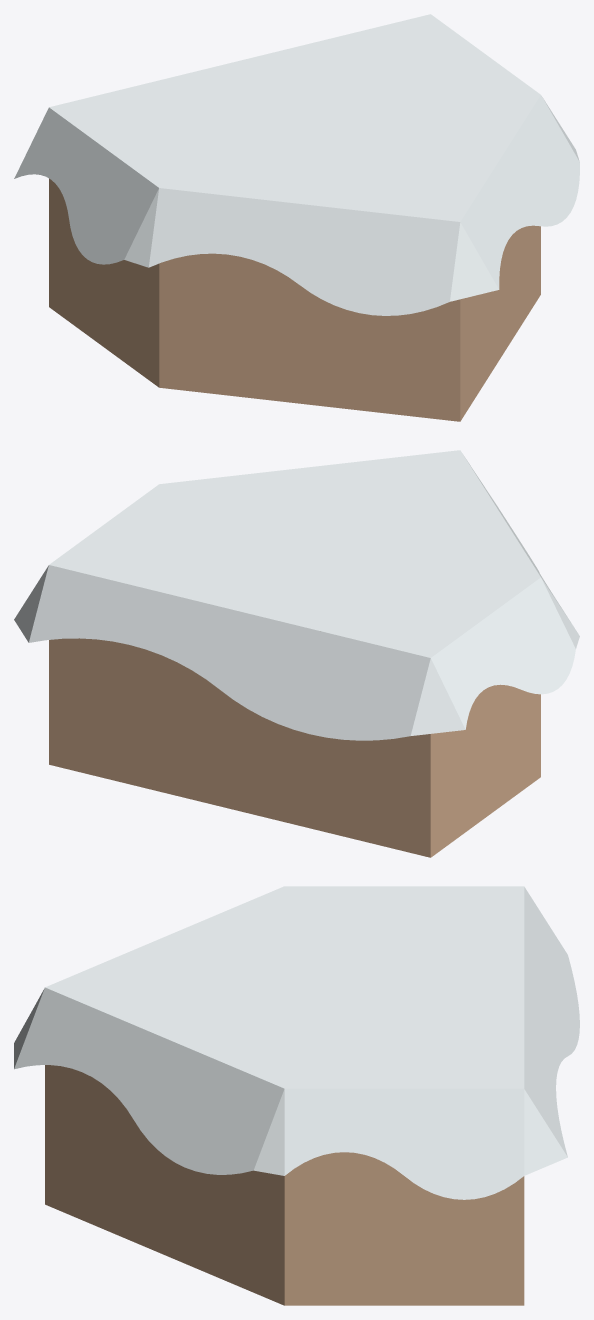
3 renders of one model, top to bottom at view 1: azimuth 30°, elevation 25°; view 2: azimuth 150°, elevation 25°; view 3: azimuth 270°, elevation 25°, orthographic. The views are drawn at different scales.
Visible parts, largest first — view 1: blockSnowEnd; view 2: blockSnowEnd; view 3: blockSnowEnd.
Part boxes in pixels (x1,y1,x2,y2): blockSnowEnd: [14, 14, 579, 421]; blockSnowEnd: [14, 450, 579, 857]; blockSnowEnd: [14, 886, 579, 1305].
Size of the model in its own units: 1.23 by 0.5 by 1.18.
